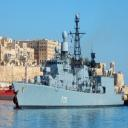Fragata: (11, 13, 126, 113)
